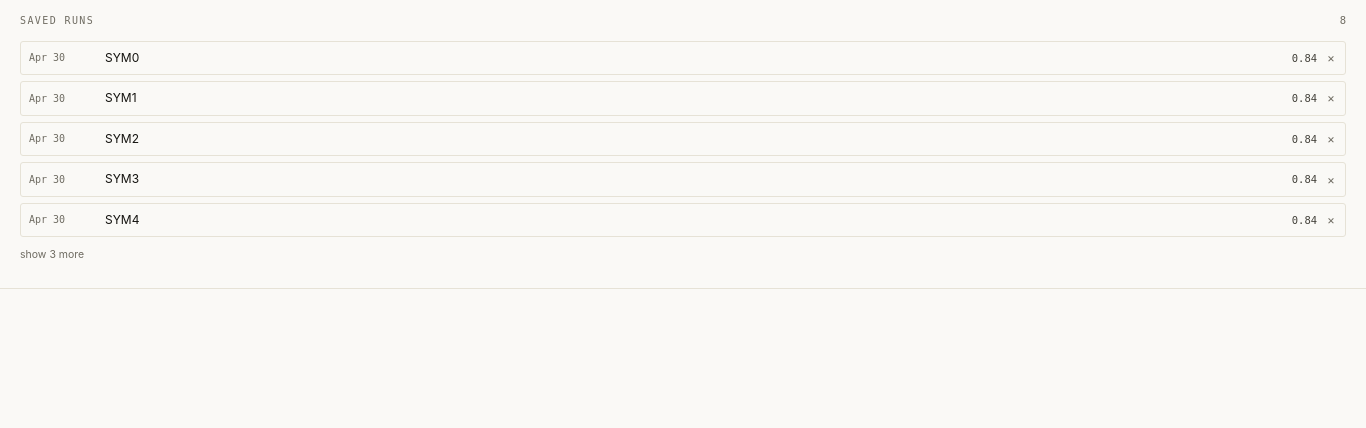
Test: SavedRunsPanel — collapsed/expanded › shows only 5 rows by default; show-more reveals the rest
The image size is (1366, 428).
expect the text "SYM0" is shown: met, box 105,50 -> 139,64
expect the text "SYM4" is shown: met, box 105,212 -> 139,227
Click the button "show 3 more" at (52, 255), box 20,244 -> 1346,268
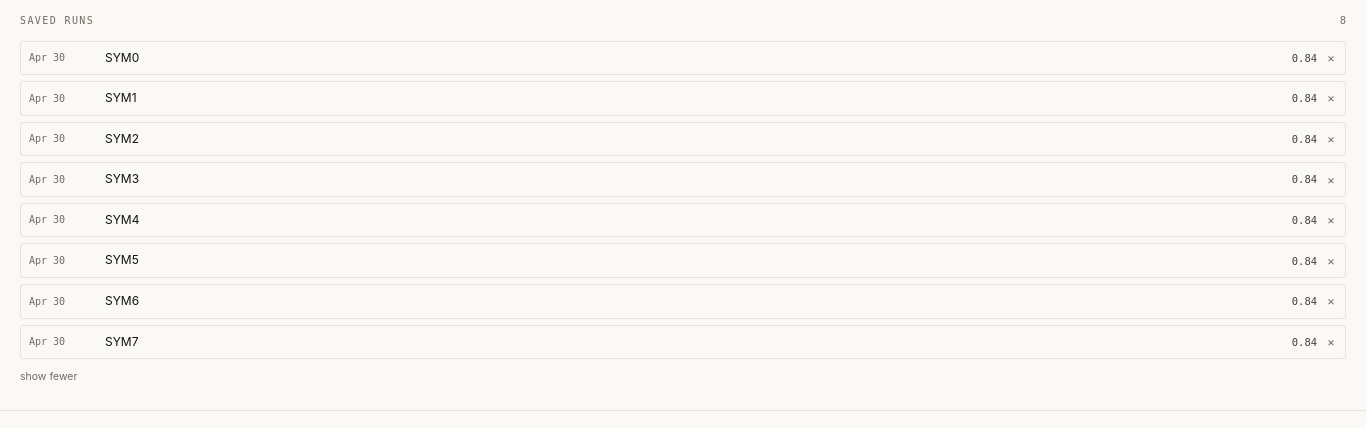
expect the text "SYM5" is shown: met, box 105,252 -> 139,268
expect the text "SYM7" is shown: met, box 105,334 -> 138,349
Click the button "show fewer" at (49, 377), box 20,365 -> 1346,390
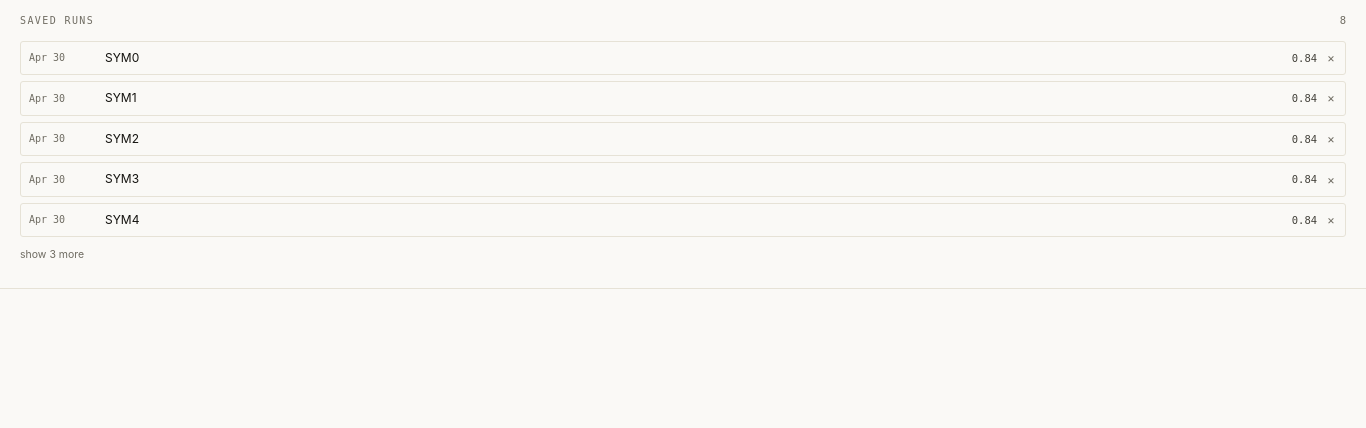
expect the button "SYM5" is gone: met
